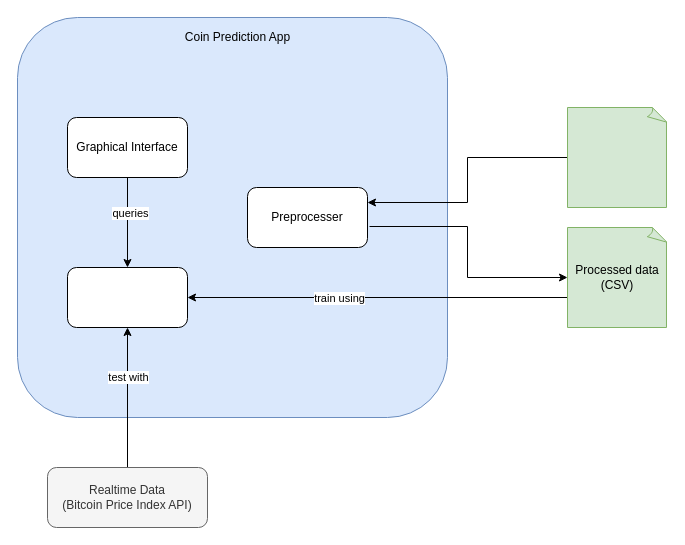
The diagram is 685 pixels wide and 545 high, and some of its shapes have lost their labels. The centre of each missing label's shape, as x and y in pixels:
"Models" belongs at pixel 127 297.
"Raw Data (CSV)" belongs at pixel 617 157.
